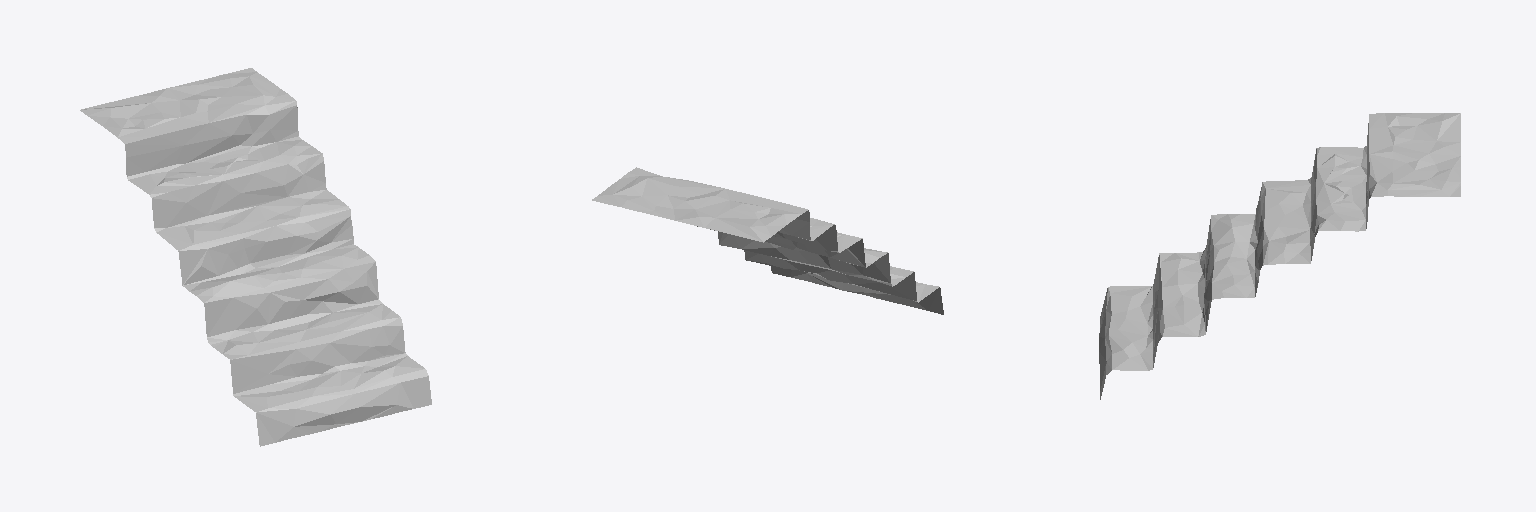
Rendered from stairs.obj.
3 views of the same model, side by side, from view 1: azimuth 30°, elevation 25°; view 2: azimuth 150°, elevation 25°; view 3: azimuth 270°, elevation 25° (orthographic).
Visible parts, largest first — view 1: LP_Plane.020; view 2: LP_Plane.020; view 3: LP_Plane.020.
Boxes of the visible parts, box(x1,y1,x2,y2) form: LP_Plane.020: box(80, 68, 431, 446); LP_Plane.020: box(592, 167, 943, 314); LP_Plane.020: box(1099, 113, 1460, 399).
Size of the model in its own units: 1.54 by 1.78 by 2.81.